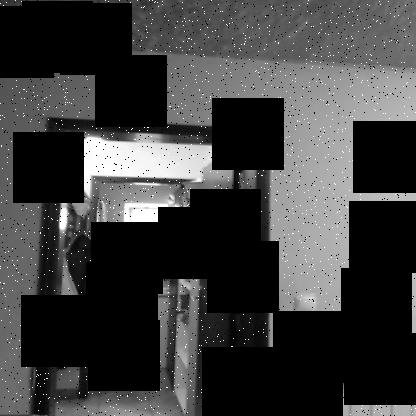Porte: (29, 116, 272, 415), (79, 176, 194, 400)
